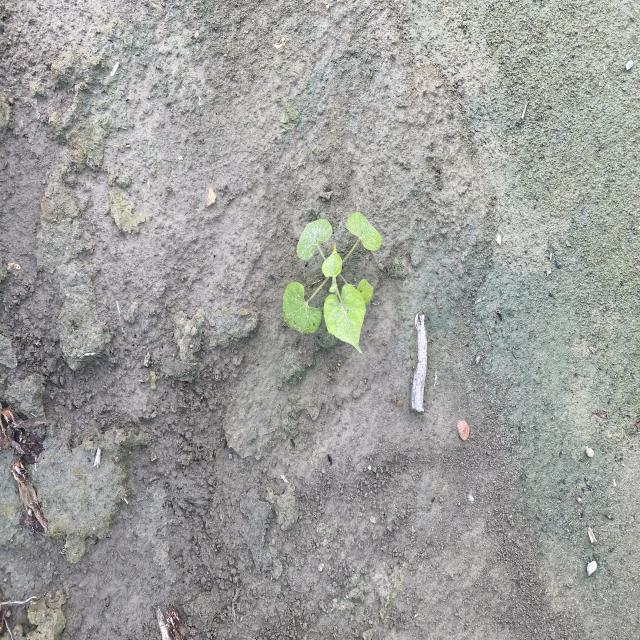MorningGlory: (281, 212, 384, 355)
